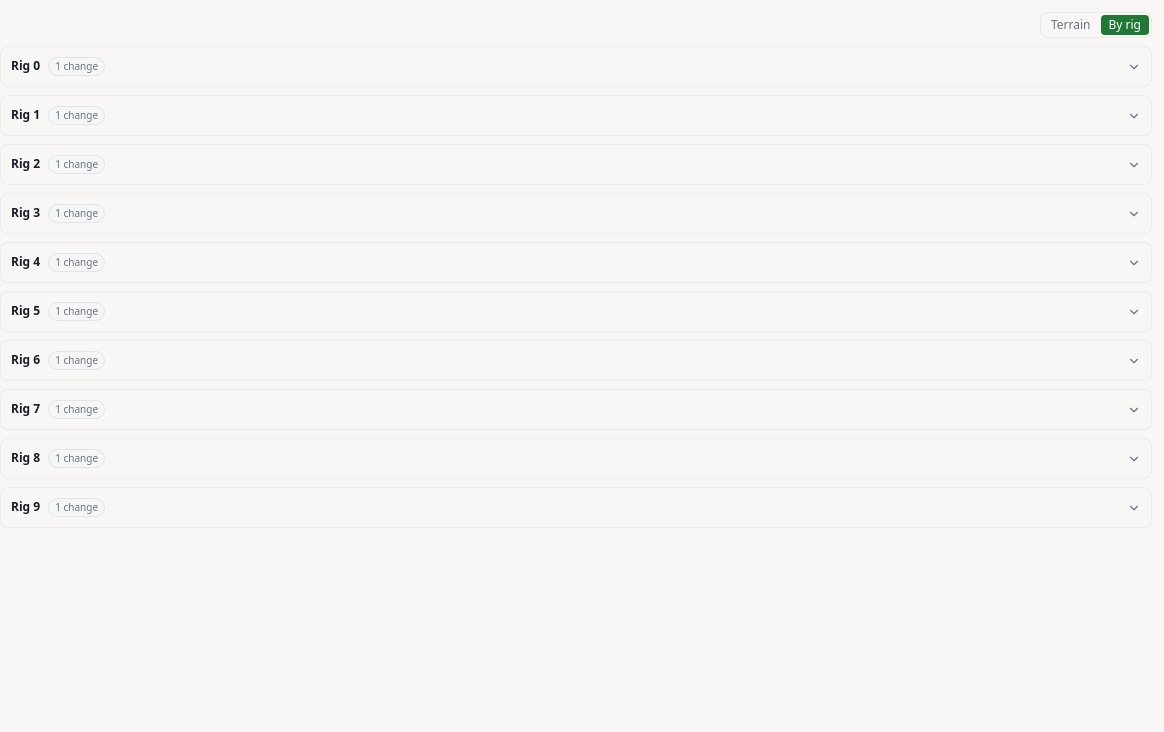
Scenario: ChangeNotesEditor progressive disclosure › expands a collapsed group on click — nothing is more than a click away
The image size is (1164, 732).
Click the tab with test id "grouping-resource" at (1125, 25), box [1100,15,1149,35]
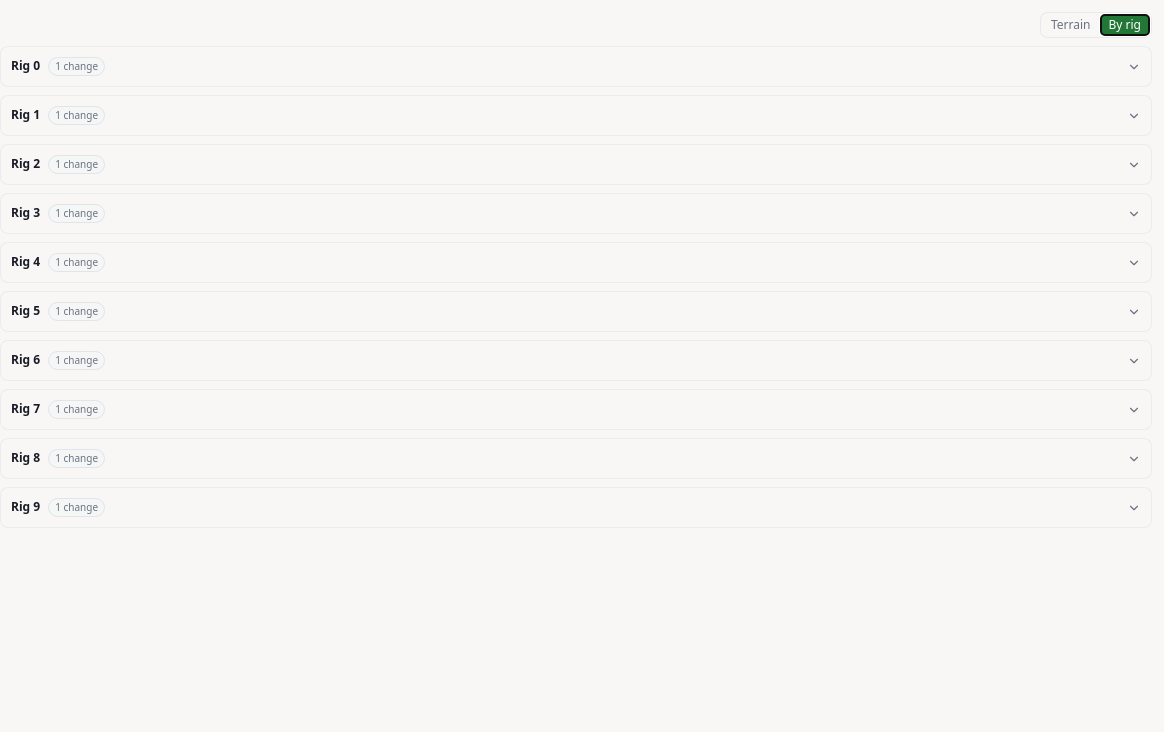
Click the button with test id "diff-group-toggle" showing "Rig 0 1 change" at (77, 66), box [11,57,1141,76]
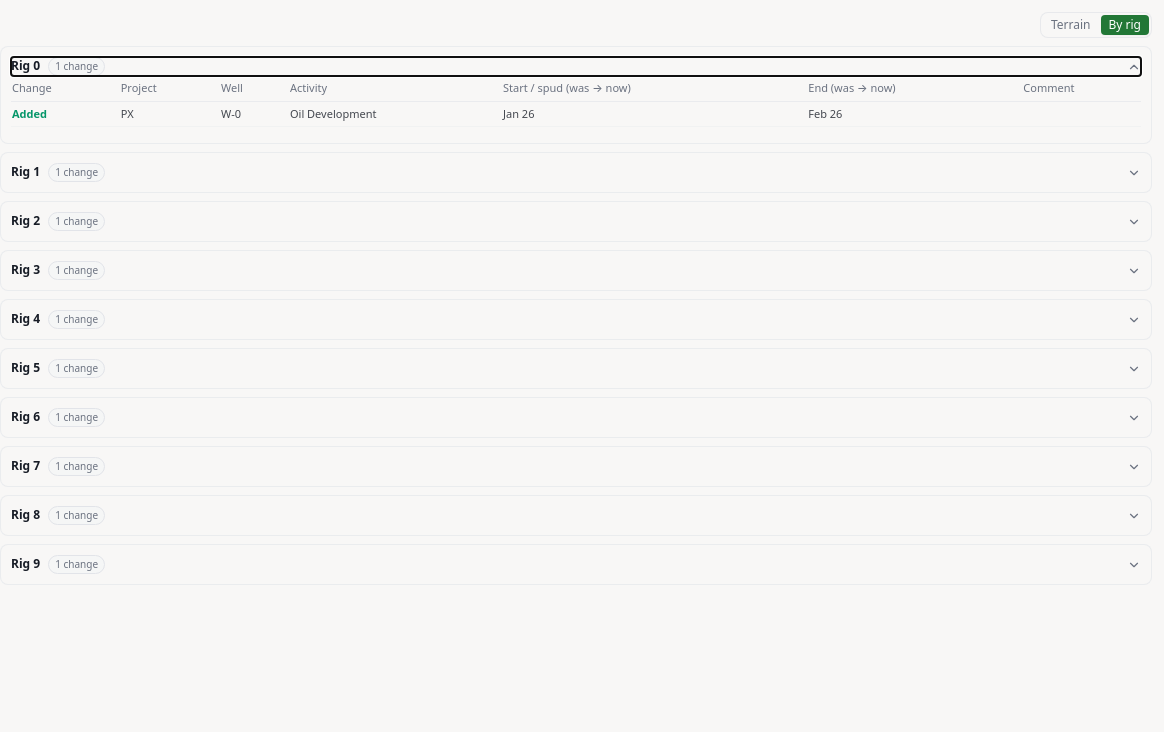
Result: the text "W-0" is shown at [220,101,289,126]
